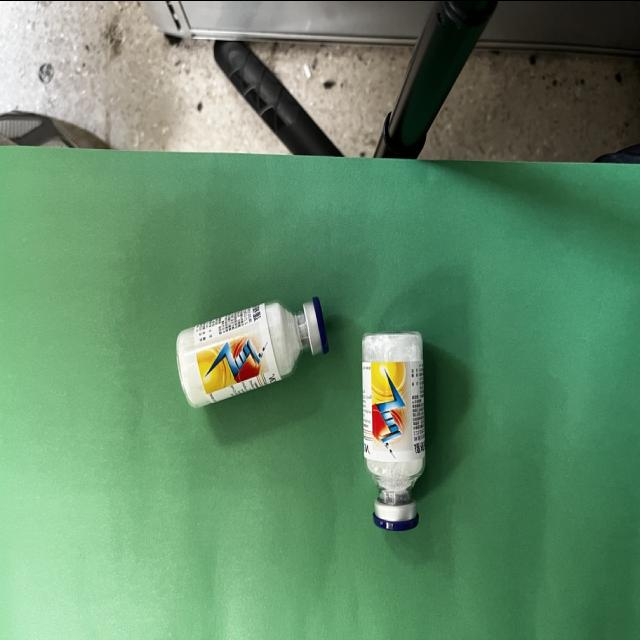Vials: (177, 296, 328, 405), (362, 331, 426, 529)
